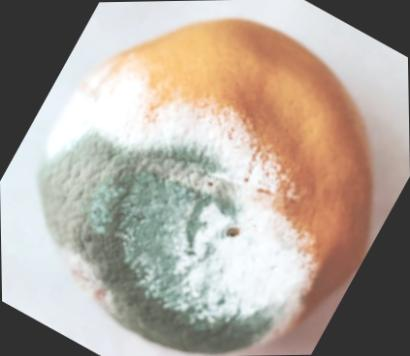Orange Rotten: (21, 9, 382, 356)
